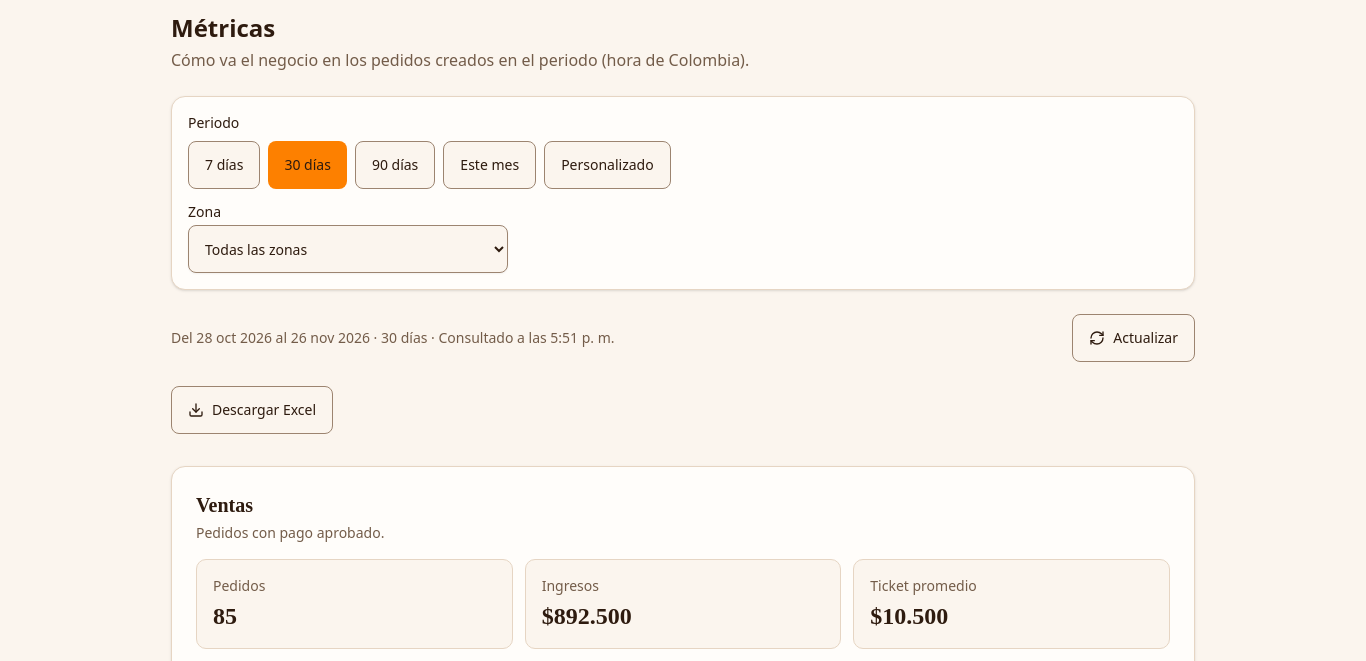
Scenario: MetricsView › periodo personalizado inválido se explica y no consulta
Expected: the heading "Ventas" is shown, [196, 494, 253, 516]
Click the button "Personalizado" at {"x": 607, "y": 165}, box [544, 141, 671, 189]
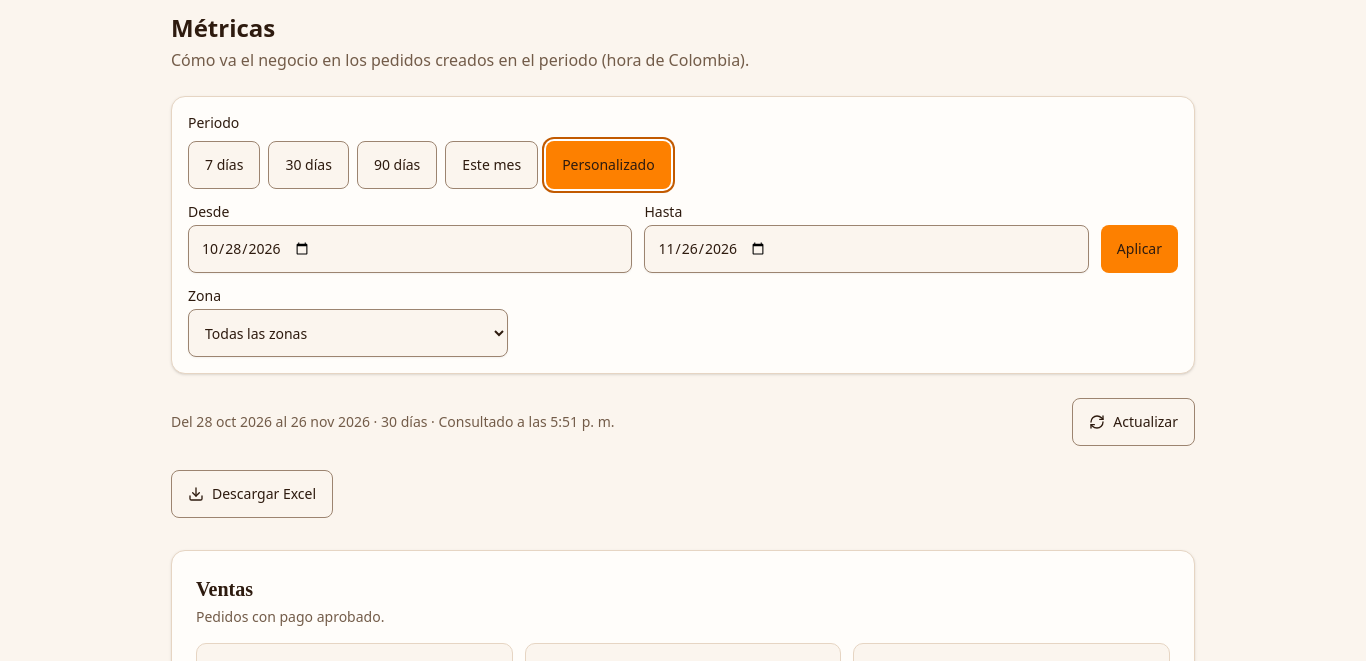
Type "2026-05-02" into the date field labelled "Desde" at {"x": 410, "y": 249}, box [188, 225, 632, 273]
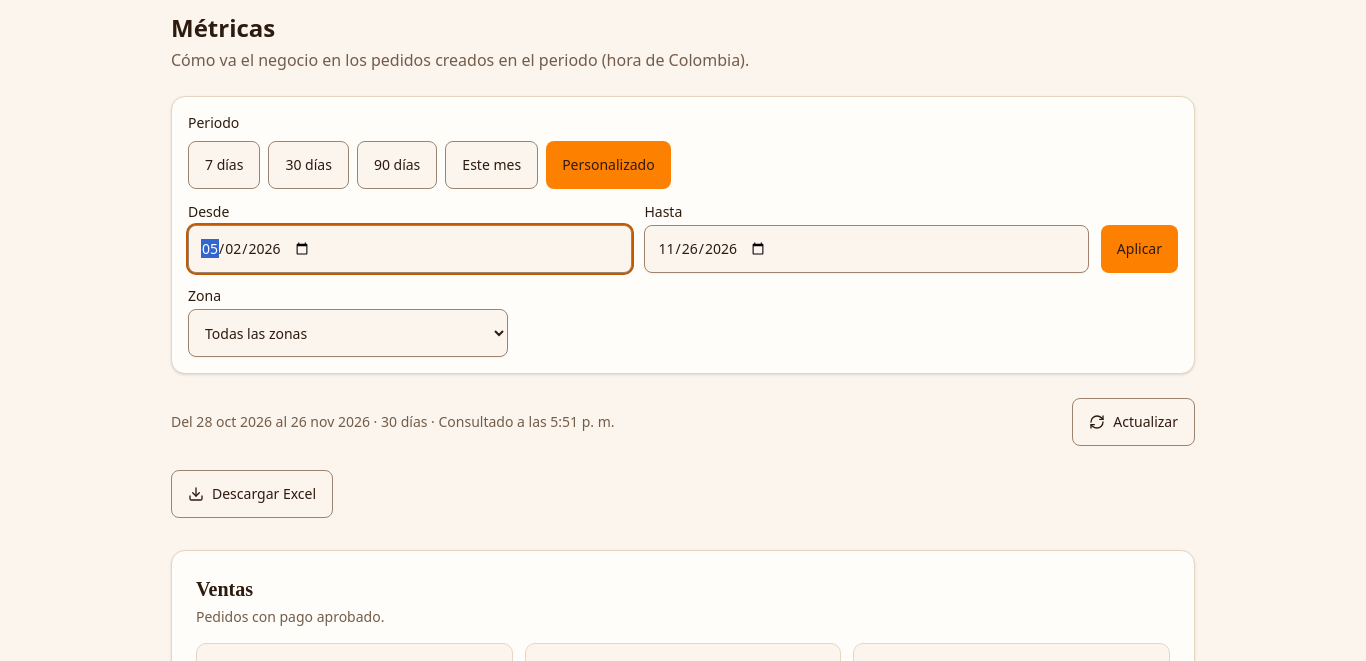
Type "2026-05-01" into the date field labelled "Hasta" at {"x": 867, "y": 249}, box [644, 225, 1089, 273]
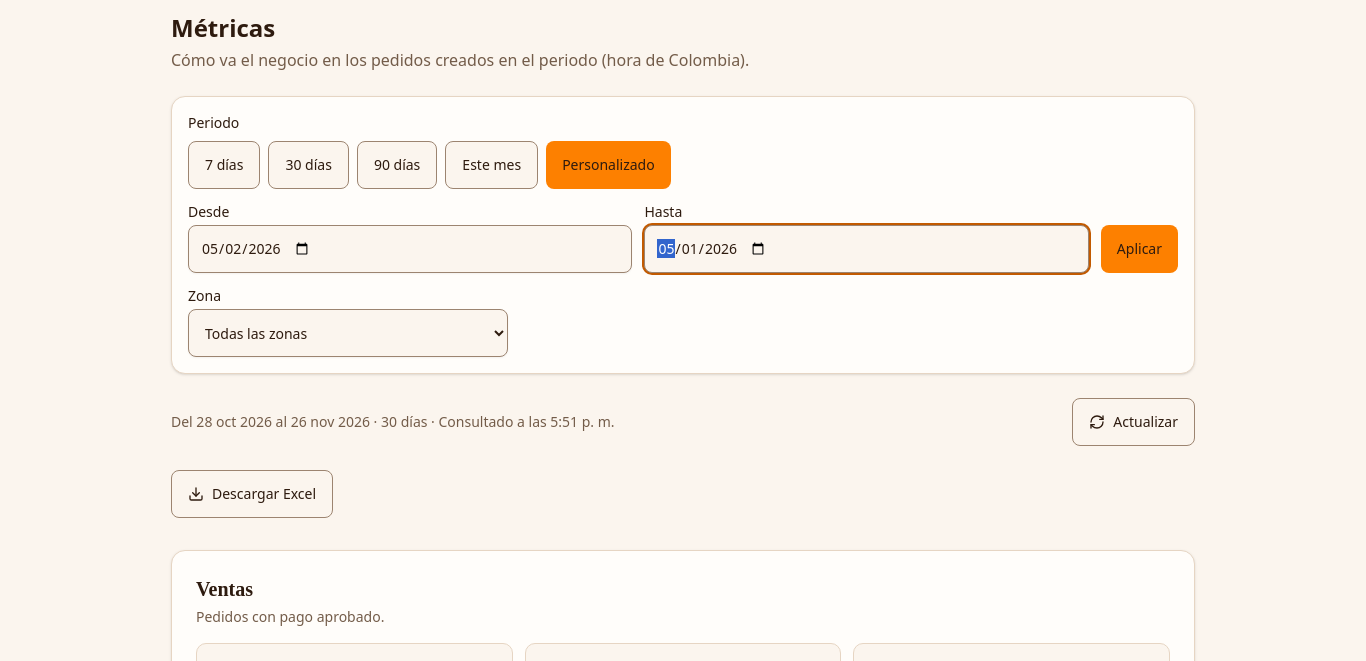
Click the button "Aplicar" at {"x": 1139, "y": 249}, box [1101, 225, 1178, 273]
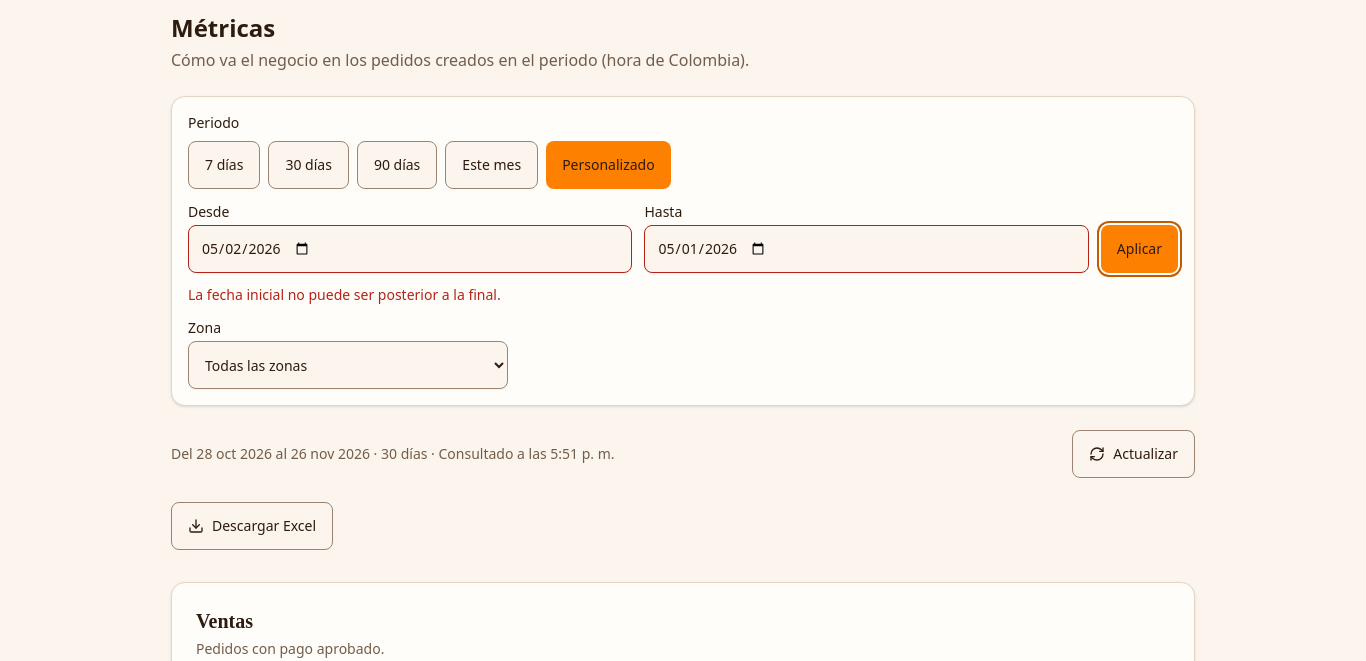
Result: the message "La fecha inicial no puede ser posterior a la final." is shown at [188, 285, 501, 304]
